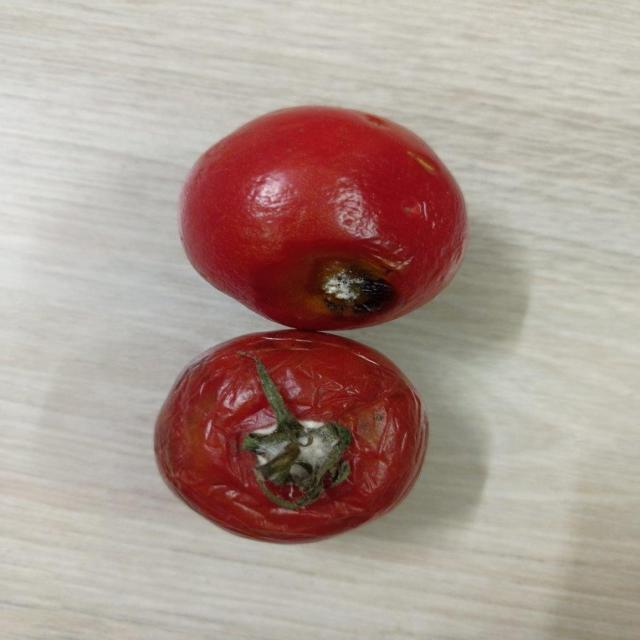Rotten: (178, 102, 470, 328), (152, 327, 431, 544)
